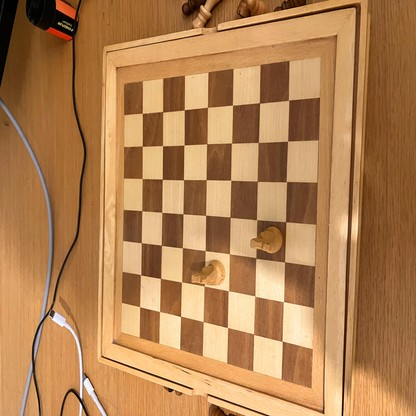knight_white: (251, 225, 282, 253), (192, 261, 224, 285)
